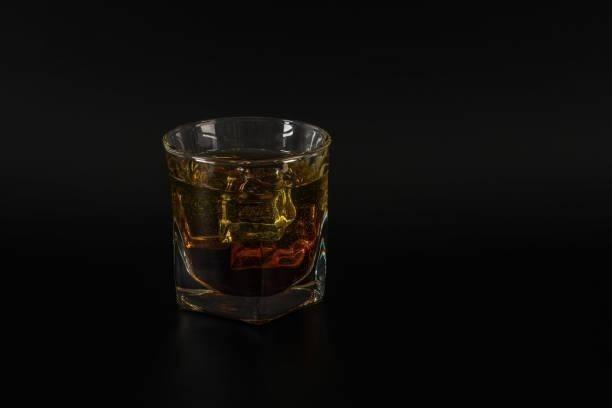glass-normal: (160, 113, 334, 324)
